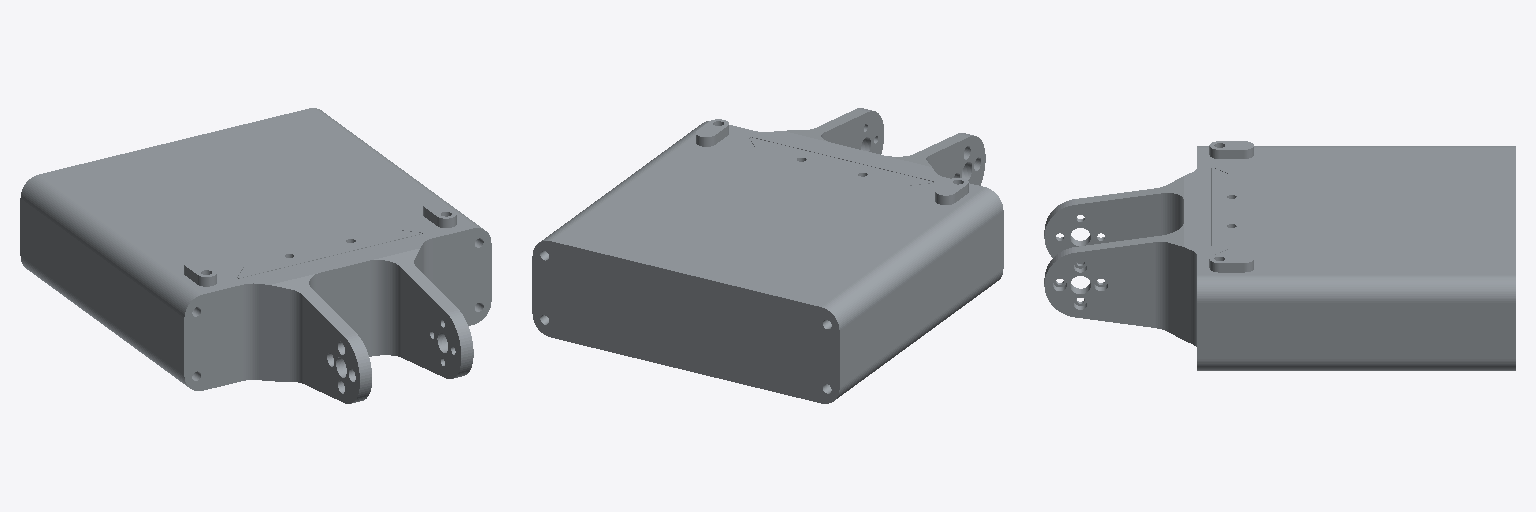
The robot description file, URDF, robot "sysID_XC330":
<?xml version="1.0" ?>
<robot name="sysID_XC330">
  <link name="xc330">
    <visual>
      <origin xyz="0 0 0" rpy="0 -0 0"/>
      <geometry>
        <mesh filename="package:///meshes/xc330_visual.stl"/>
      </geometry>
      <material name="xc330_material">
        <color rgba="0.66291664961446195026 0.70549986616795368199 0.66729895251604331996 1.0"/>
      </material>
    </visual>
    <collision>
      <origin xyz="0 0 0" rpy="0 -0 0"/>
      <geometry>
        <mesh filename="package:///meshes/xc330_collision.stl"/>
      </geometry>
    </collision>
    <inertial>
      <origin xyz="0.067523785979360526066 0.0091047662315145976714 0.0040548453010051110912" rpy="0 0 0"/>
      <mass value="0.037349999993091763384"/>
      <inertia ixx="7.1551666942363893246e-06" ixy="-4.4272140296375444478e-06" ixz="3.88600385203059254e-07" iyy="1.6392155116973046642e-05" iyz="3.364647266219376747e-07" izz="2.0987261801740487668e-05"/>
    </inertial>
  </link>

  <link name="arm_330">
    <visual>
      <origin xyz="0 0 0" rpy="0 -0 0"/>
      <geometry>
        <mesh filename="package:///meshes/arm_330_visual.stl"/>
      </geometry>
      <material name="arm_330_material">
        <color rgba="0.63059283987567626983 0.65298952457695413898 0.67418901807298270423 1.0"/>
      </material>
    </visual>
    <collision>
      <origin xyz="0 0 0" rpy="0 -0 0"/>
      <geometry>
        <mesh filename="package:///meshes/arm_330_collision.stl"/>
      </geometry>
    </collision>
    <inertial>
      <origin xyz="0.077771581880464596415 1.3637865613089529684e-05 -0.014499999999999879305" rpy="0 0 0"/>
      <mass value="0.25549999999999994937"/>
      <inertia ixx="0.00024322303213941348448" ixy="9.3950332757091710781e-08" ixz="5.9314470448743356968e-20" iyy="0.00041031606159673929875" iyz="3.8999390614646317898e-16" izz="0.00022144160734724412142"/>
    </inertial>
  </link>

  <joint name="joint_0" type="revolute">
    <origin xyz="0.089400000000000034994 0.021949857927858890116 0.0034193959459662072627" rpy="1.57079632679489678 -2.3592239273285399858e-16 1.5707963267948961139"/>
    <parent link="xc330"/>
    <child link="arm_330"/>
    <axis xyz="0 0 1"/>
    <limit effort="1" velocity="20" lower="-1.570796326794896558" upper="1.570796326794896558"/>
    <joint_properties friction="0.0"/>
  </joint>


</robot>

--- Render facts (derived) ---
Views: 3 orthographic renders of the robot side by side, from view 1: azimuth 30°, elevation 25°; view 2: azimuth 150°, elevation 25°; view 3: azimuth 270°, elevation 25°.
Robot: sysID_XC330 — 2 links, 1 joints (1 revolute); root link xc330; default pose: every joint at zero.
Links seen in each view (by area): view 1: arm_330; view 2: arm_330; view 3: arm_330.
Boxes of the visible links, left/top/right/bottom form: arm_330: left=20, top=108, right=491, bottom=403; arm_330: left=532, top=108, right=1003, bottom=403; arm_330: left=1044, top=141, right=1515, bottom=370.
Size in the robot's own frame: 0.1 by 0.137 by 0.033 metres.
Meshes: 2 distinct files referenced, 1 mesh visuals loaded (1 binary STL); not drawn: 1 (reference not matched to a file when rendering).
